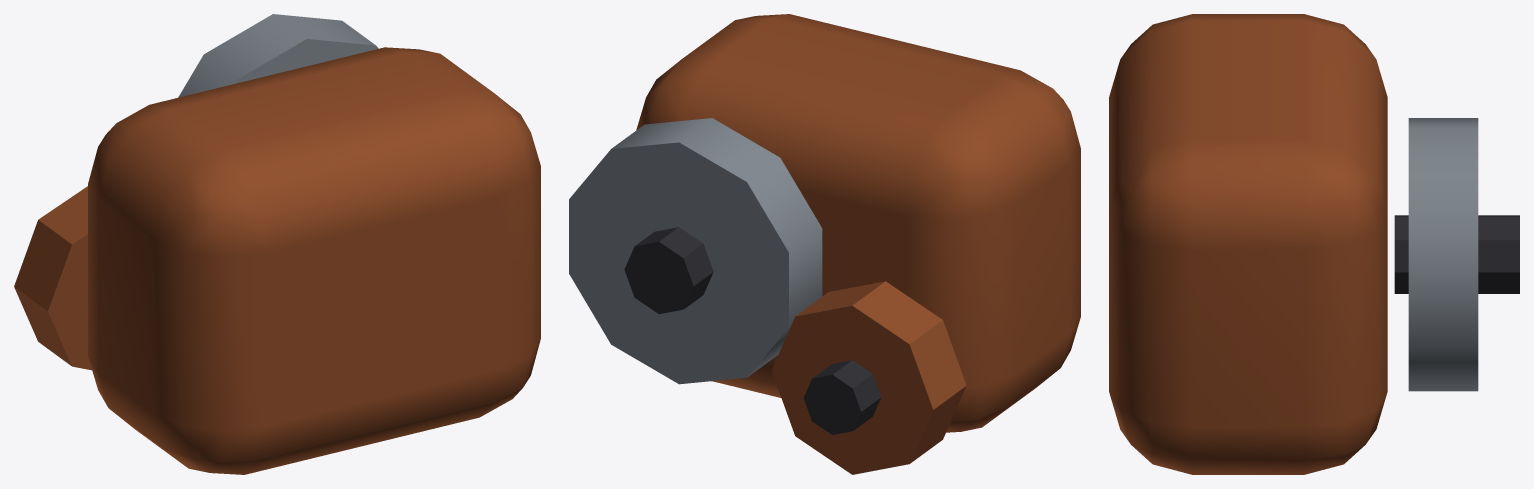
Rendered from mo_servo.glb.
3 renders of one model, left to right at view 1: azimuth 30°, elevation 25°; view 2: azimuth 150°, elevation 25°; view 3: azimuth 270°, elevation 25°, orthographic. The views are drawn at different scales.
Visible parts, largest first — view 1: mo_servo; view 2: mo_servo; view 3: mo_servo.
Boxes of the visible parts, x1,y1,x2,y2 form: mo_servo: (14, 14, 540, 474); mo_servo: (569, 14, 1080, 474); mo_servo: (1109, 14, 1519, 474).
Size of the model in its own units: 0.1376 by 0.1118 by 0.1269.
